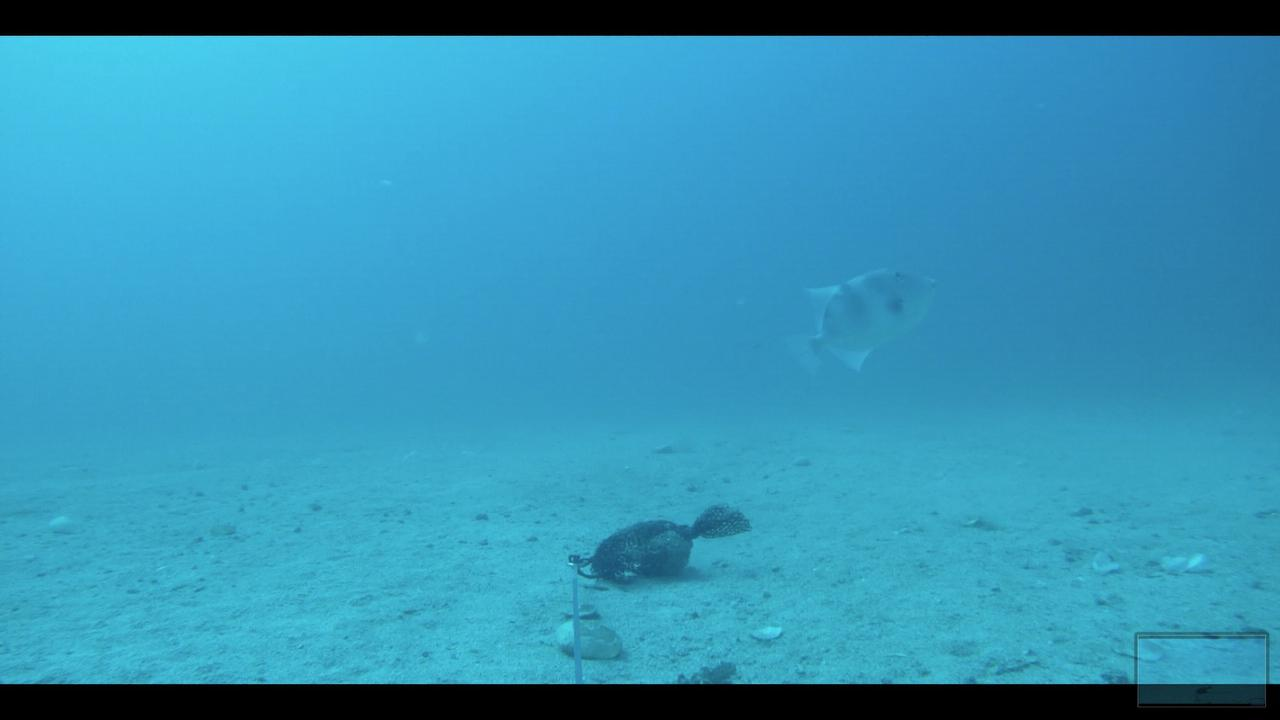balistes: (785, 265, 939, 376)
